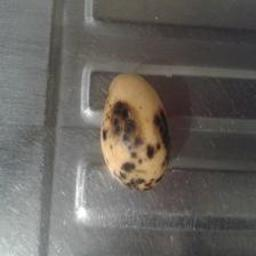Mango Rotten: (98, 66, 172, 197)
